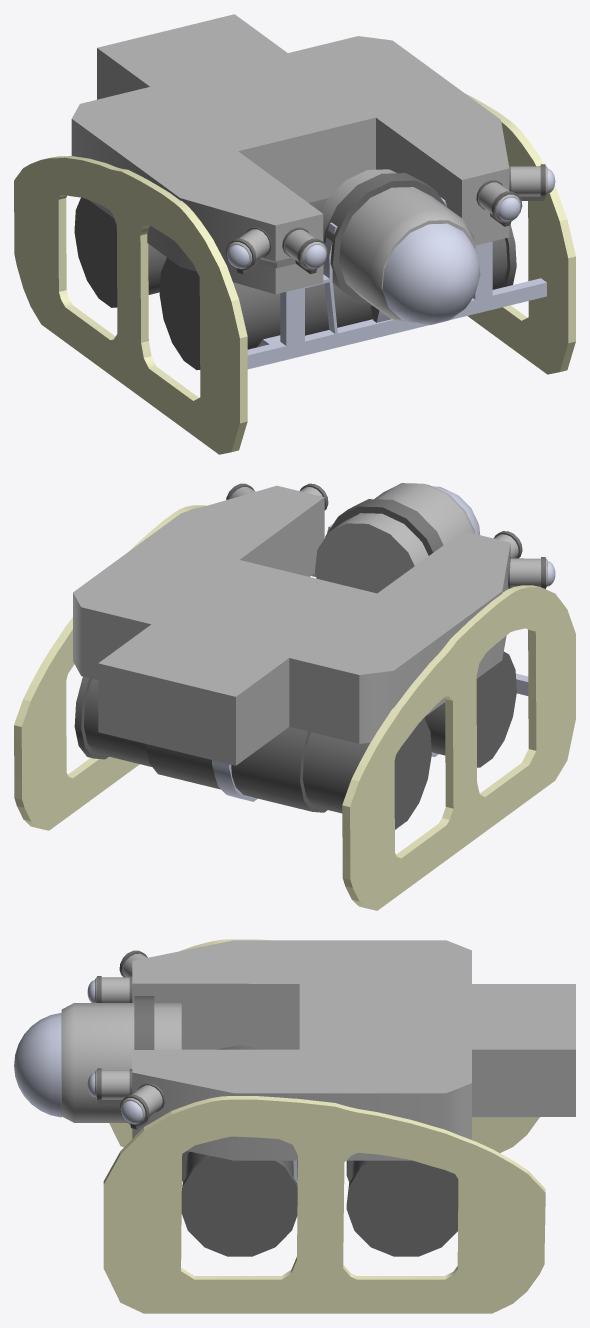
File: SILVER2_Body_Simplified.fbx
3 renders of one model, top to bottom at view 1: azimuth 30°, elevation 25°; view 2: azimuth 150°, elevation 25°; view 3: azimuth 270°, elevation 25°, orthographic. The views are drawn at different scales.
Parts seen in each view (by area): view 1: Foam, RightChasis, Camera, LeftChasis, FrontCylinder, FrontCylinderSupport, SensorLeft, BackCylinder; view 2: Foam, RightChasis, BackCylinder, Camera, LeftChasis, FrontCylinder, SensorLeft, BackCylinderSupport; view 3: Foam, LeftChasis, Camera, FrontCylinder, BackCylinder, SensorLeft, RightChasis.
Part boxes in pixels (x1,y1,x2,y2): Foam: (71, 14, 509, 294); RightChasis: (14, 156, 247, 454); Camera: (321, 169, 480, 325); LeftChasis: (465, 93, 575, 374); FrontCylinder: (159, 225, 516, 370); FrontCylinderSupport: (247, 197, 546, 369); SensorLeft: (225, 164, 555, 274); BackCylinder: (74, 197, 327, 307); Foam: (73, 485, 510, 765); RightChasis: (342, 585, 575, 910); BackCylinder: (74, 676, 431, 829); Camera: (315, 483, 479, 593); LeftChasis: (14, 505, 206, 830); FrontCylinder: (424, 651, 516, 767); SensorLeft: (226, 483, 555, 589); BackCylinderSupport: (212, 760, 257, 801); Foam: (132, 940, 575, 1160); LeftChasis: (103, 1096, 545, 1313); Camera: (14, 996, 181, 1122); FrontCylinder: (181, 1045, 297, 1256); BackCylinder: (346, 1160, 458, 1256); SensorLeft: (87, 950, 165, 1129); RightChasis: (109, 939, 539, 1152).
Bounding box in the file's own units: 1.03 × 0.6895 × 1.52.
1 material, 1 textured.
